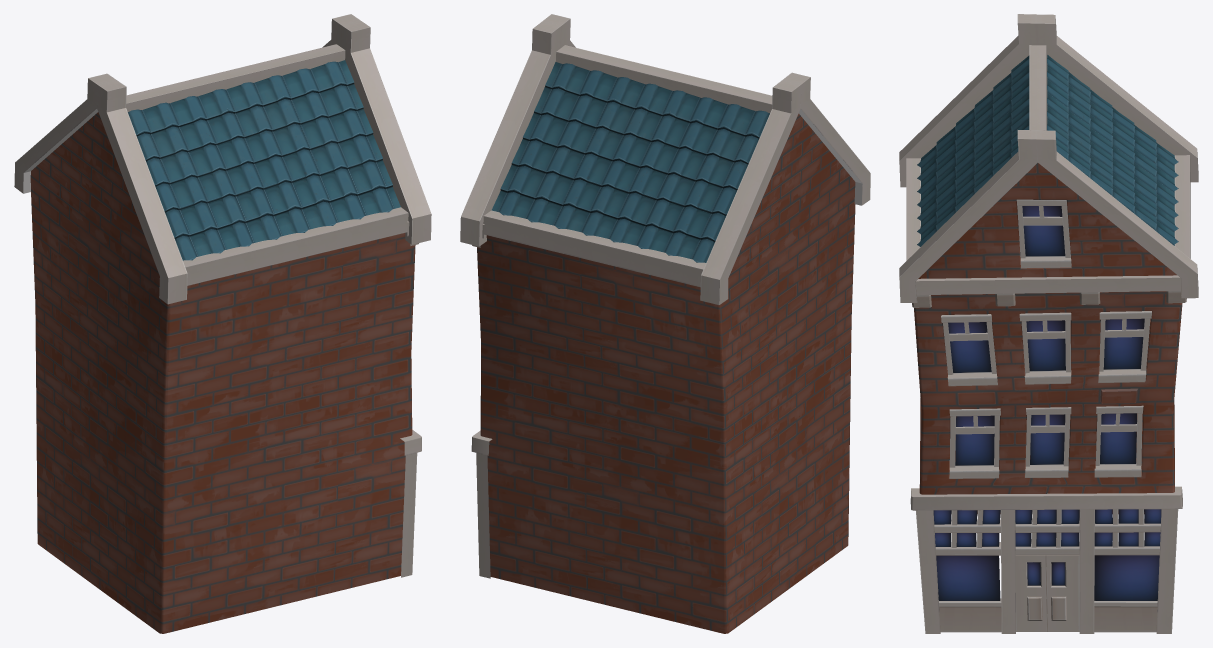
The model's file is Building01.fbx.
3 views of the same model, side by side, from view 1: azimuth 30°, elevation 25°; view 2: azimuth 150°, elevation 25°; view 3: azimuth 270°, elevation 25° (orthographic). The views are drawn at different scales.
Parts seen in each view (by area): view 1: Windows, Windows.001; view 2: Windows, Windows.001; view 3: Windows, Windows.001.
Boxes of the visible parts, box(x1,y1,x2,y2) form: Windows: box(14, 14, 431, 633); Windows.001: box(400, 430, 421, 577); Windows: box(460, 14, 870, 633); Windows.001: box(471, 430, 492, 578); Windows: box(899, 14, 1198, 600); Windows.001: box(910, 486, 1182, 633).
Bounding box in the file's own units: 690 × 1280 × 698.
